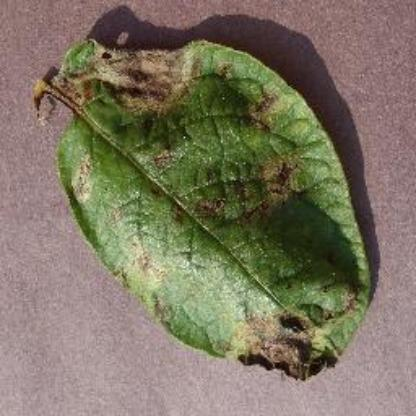Late-Blight: (23, 21, 383, 394)
